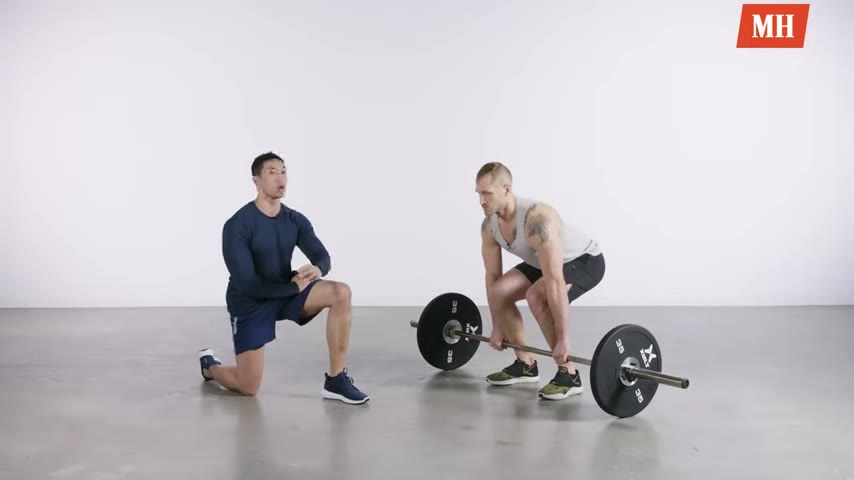barbell_plate_side: (409, 290, 481, 418), (614, 316, 693, 428)
